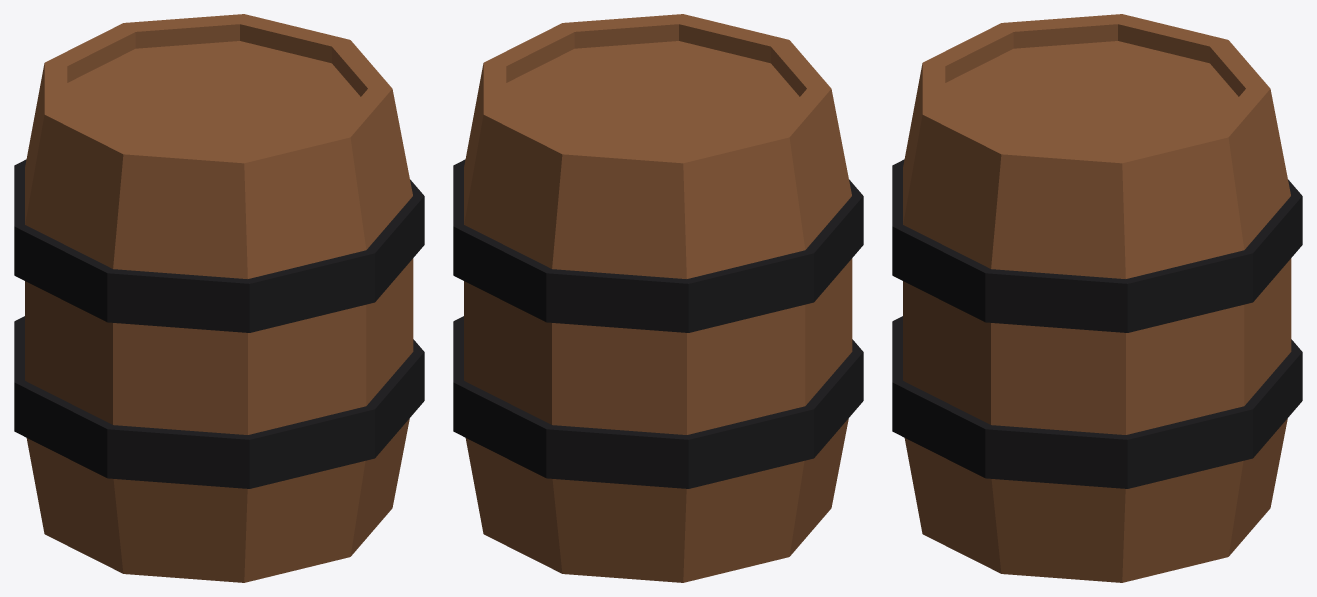
File: Light Brown Two Ringed Barrel.fbx
3 views of the same model, side by side, from view 1: azimuth 30°, elevation 25°; view 2: azimuth 150°, elevation 25°; view 3: azimuth 270°, elevation 25° (orthographic).
Visible parts, largest first — view 1: Light Brown Two Ringed Barrel; view 2: Light Brown Two Ringed Barrel; view 3: Light Brown Two Ringed Barrel.
Boxes of the visible parts, box(x1,y1,x2,y2) form: Light Brown Two Ringed Barrel: box(14, 14, 424, 582); Light Brown Two Ringed Barrel: box(453, 14, 863, 582); Light Brown Two Ringed Barrel: box(892, 14, 1302, 582).
Bounding box in the file's own units: 180 × 200 × 177.
